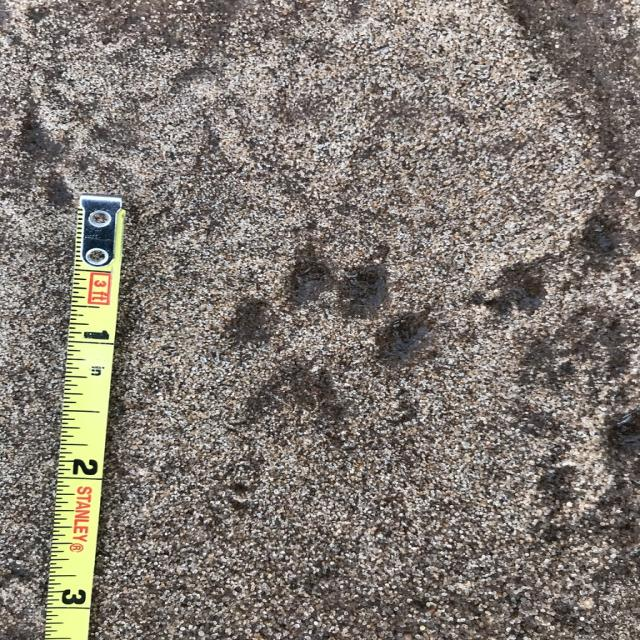mustelid: (229, 250, 436, 446)
